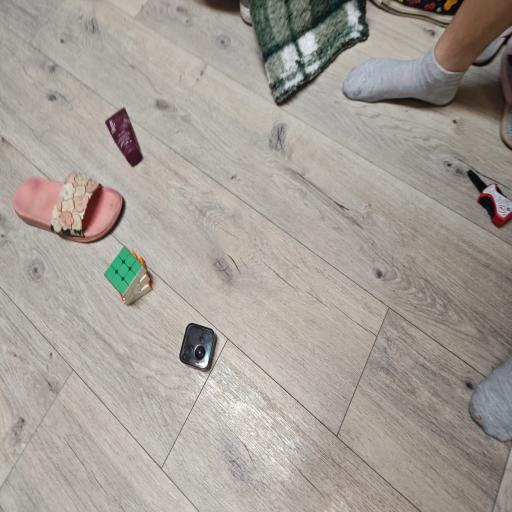Hand Cream: (104, 105, 142, 167)
Rubiks Cube: (104, 244, 151, 304)
Super Glue: (463, 168, 512, 231)
